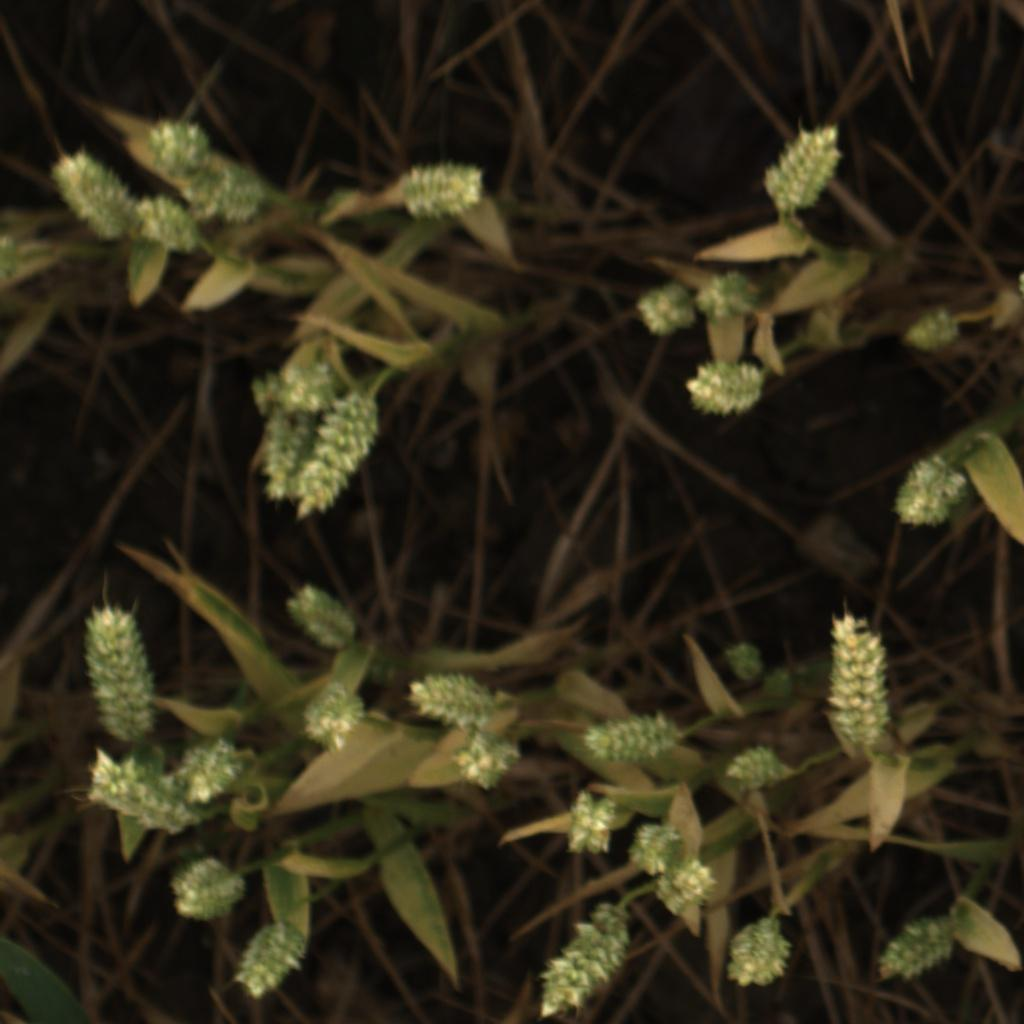0-0: (525, 888, 638, 1019), (808, 612, 896, 762), (297, 398, 386, 531), (76, 599, 159, 741), (79, 750, 195, 841), (47, 139, 139, 253), (756, 118, 853, 219), (235, 346, 350, 422), (718, 906, 806, 993), (231, 913, 316, 1001), (881, 457, 975, 536), (579, 701, 685, 770), (871, 906, 959, 987), (402, 668, 502, 735), (394, 154, 488, 225), (166, 844, 246, 926), (243, 412, 300, 524), (682, 352, 766, 426), (284, 576, 358, 656), (299, 675, 371, 755), (177, 730, 244, 815), (192, 156, 269, 226), (449, 731, 522, 802), (554, 787, 618, 864), (135, 188, 200, 262), (144, 107, 212, 174), (636, 271, 701, 341), (898, 297, 965, 363), (700, 259, 765, 327), (653, 857, 719, 922), (720, 741, 790, 797), (626, 814, 690, 875)
